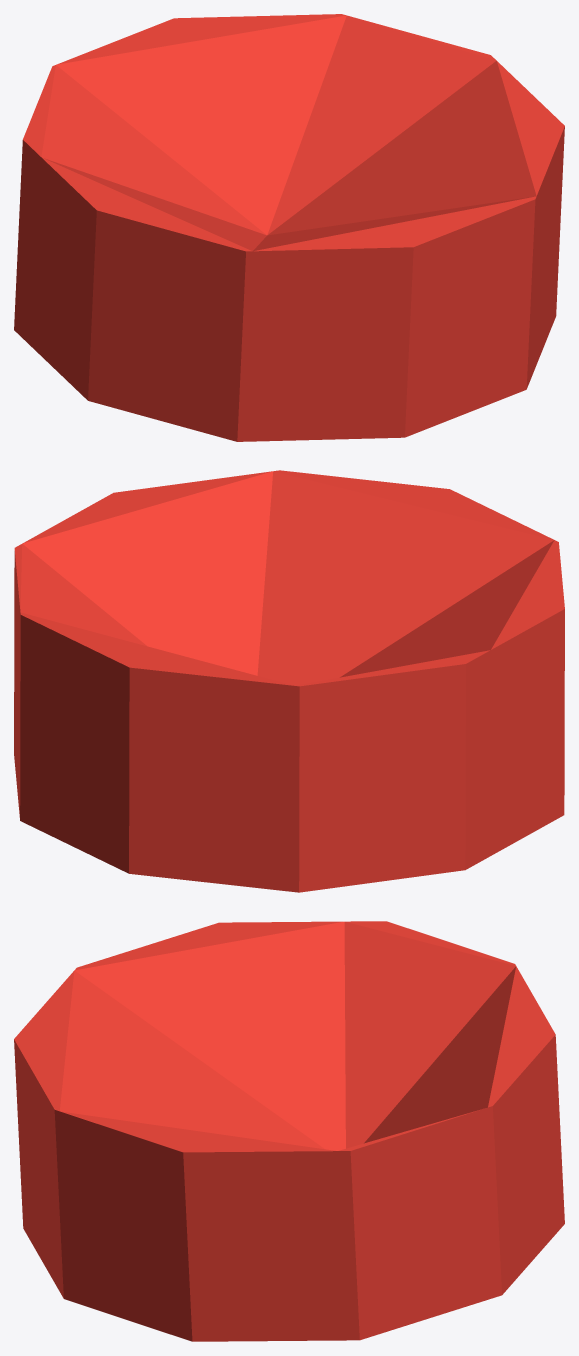
The model's file is Button.fbx.
3 views of the same model, one above another, from view 1: azimuth 30°, elevation 25°; view 2: azimuth 150°, elevation 25°; view 3: azimuth 270°, elevation 25° (orthographic). The views are drawn at different scales.
Parts seen in each view (by area): view 1: group_1460702743; view 2: group_1460702743; view 3: group_1460702743.
Part boxes in pixels (box(x1,y1,x2,y2)): group_1460702743: box(14, 14, 564, 441); group_1460702743: box(14, 470, 564, 892); group_1460702743: box(14, 921, 564, 1341).
Bounding box in the file's own units: 19.58 × 8.75 × 20.27.
